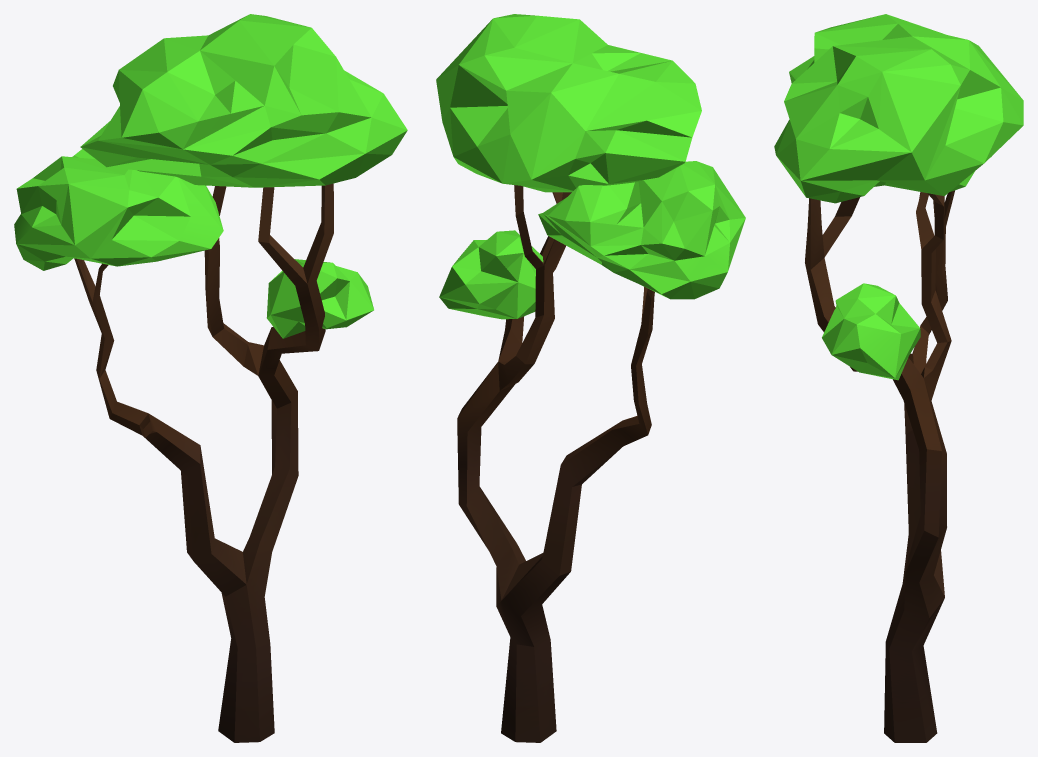
Rendered from Tree3.glb.
3 renders of one model, left to right at view 1: azimuth 30°, elevation 25°; view 2: azimuth 150°, elevation 25°; view 3: azimuth 270°, elevation 25°, orthographic. The views are drawn at different scales.
Visible parts, largest first — view 1: SM_Env_Tree_02; view 2: SM_Env_Tree_02; view 3: SM_Env_Tree_02.
Boxes of the visible parts, left/top/right/bottom form: SM_Env_Tree_02: left=14, top=14, right=407, bottom=742; SM_Env_Tree_02: left=436, top=14, right=745, bottom=742; SM_Env_Tree_02: left=774, top=14, right=1023, bottom=742.
Bounding box in the file's own units: 11.18 × 23.38 × 7.7.
Materials: 1 (1 with a texture image).
